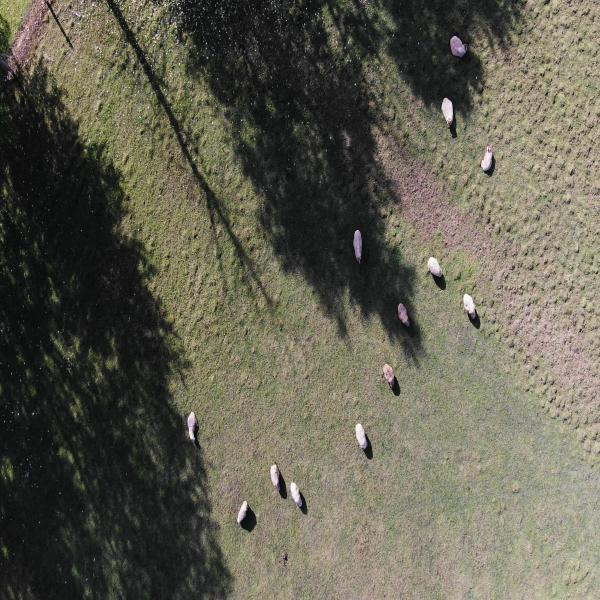sheep: (353, 408, 379, 467), (382, 338, 403, 398), (181, 404, 204, 451), (347, 225, 370, 271), (477, 135, 498, 182), (422, 251, 446, 290), (459, 285, 479, 330), (444, 27, 469, 61), (290, 478, 307, 528), (439, 84, 457, 129), (232, 490, 251, 532), (269, 464, 288, 503), (393, 302, 414, 327)
